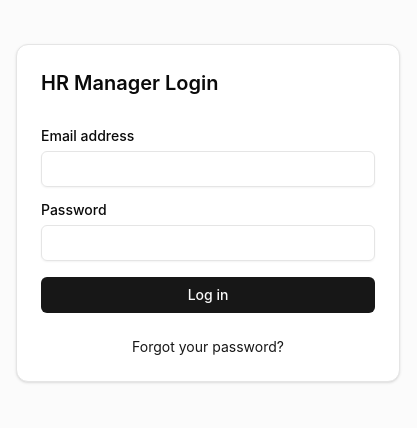
Scenario: LoginPage › shows inline validation errors when submitted with both fields blank
Step 1. Click the button "Log in" → (208,295), box [41,277,375,313]
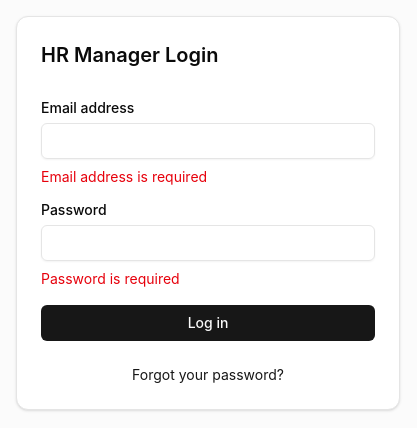
Result: the text "Email address is required" is shown at [41,168,207,185]
Result: the text "Password is required" is shown at [41,270,180,287]
